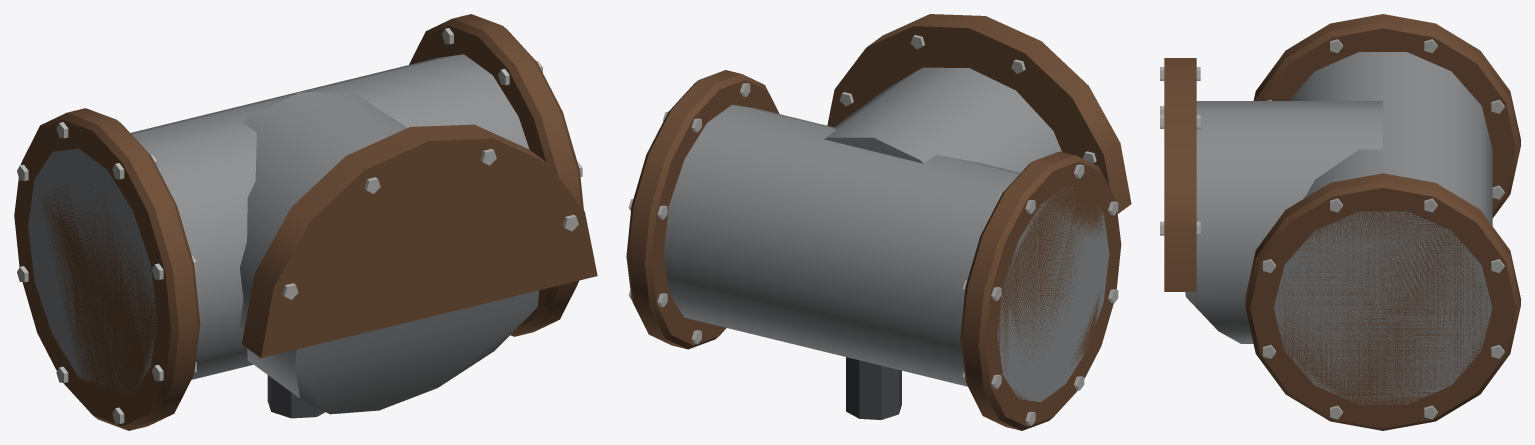
File: pipe-t-down.glb
The picture shows the model from 3 angles, left to right: view 1: azimuth 30°, elevation 25°; view 2: azimuth 150°, elevation 25°; view 3: azimuth 270°, elevation 25°; orthographic projection. The views are drawn at different scales.
Parts seen in each view (by area): view 1: body; view 2: body; view 3: body.
Part boxes in pixels (left/top/right/bottom): body: left=14, top=14, right=597, bottom=430; body: left=626, top=14, right=1131, bottom=430; body: left=1160, top=14, right=1520, bottom=430.
Size of the model in its own units: 1.02 by 0.826 by 0.89.
